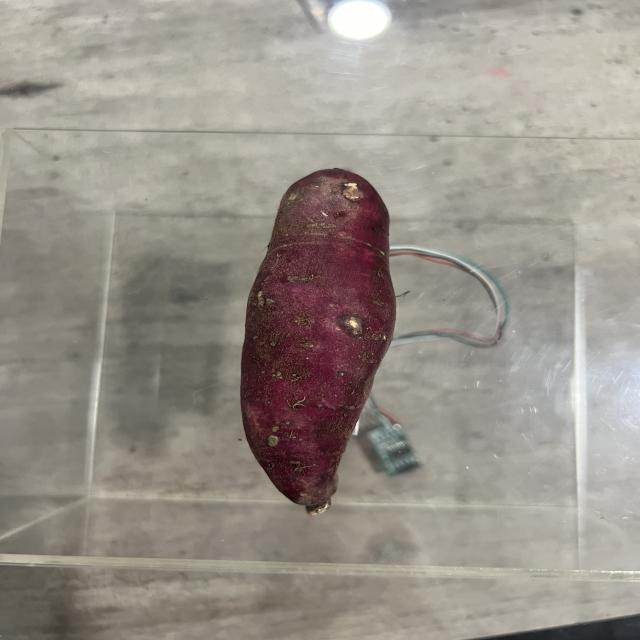sweet potato: (238, 169, 394, 512)
